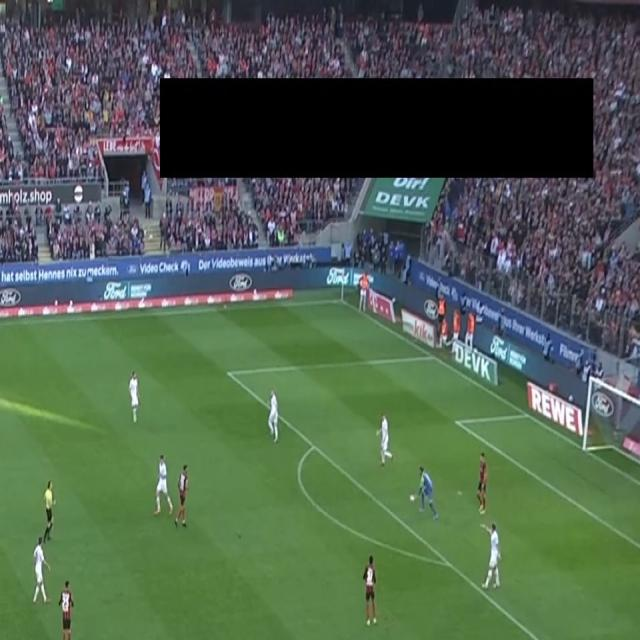ball: (409, 492, 416, 503)
